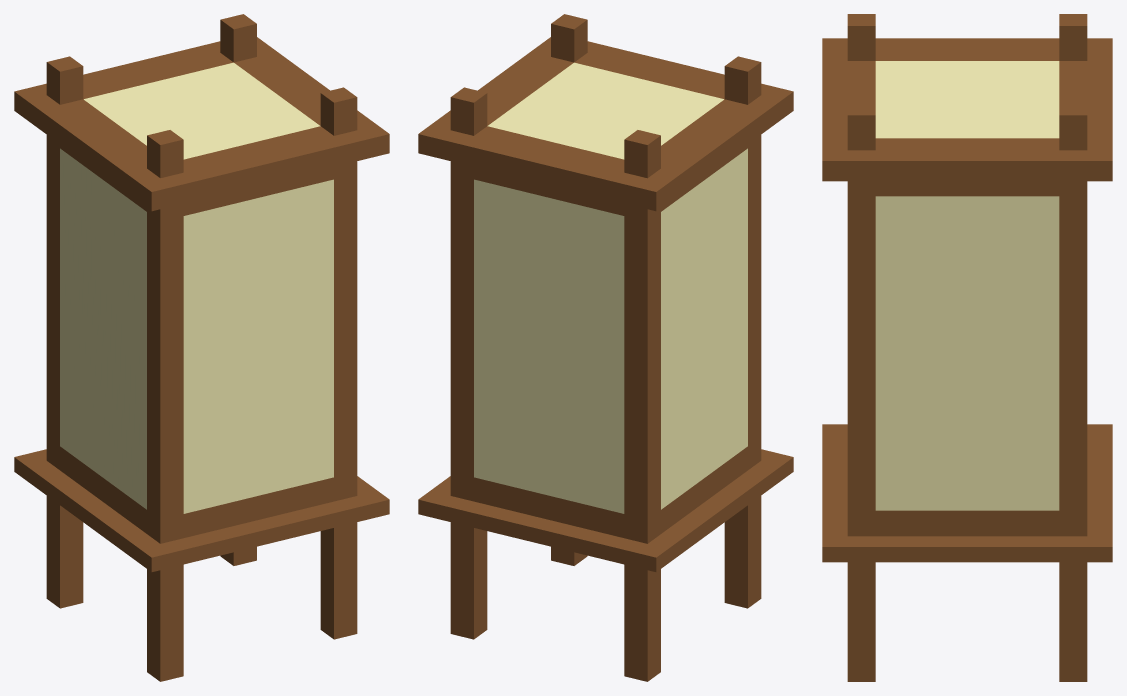
Rendered from Asian_Prop_Bamboo_Paper_Lantern_01.FBX.
3 renders of one model, left to right at view 1: azimuth 30°, elevation 25°; view 2: azimuth 150°, elevation 25°; view 3: azimuth 270°, elevation 25°, orthographic. The views are drawn at different scales.
Visible parts, largest first — view 1: Asian_Prop_Bamboo_Paper_Lantern_01; view 2: Asian_Prop_Bamboo_Paper_Lantern_01; view 3: Asian_Prop_Bamboo_Paper_Lantern_01.
Part boxes in pixels (x1,y1,x2,y2): Asian_Prop_Bamboo_Paper_Lantern_01: (14, 14, 389, 681); Asian_Prop_Bamboo_Paper_Lantern_01: (418, 14, 793, 681); Asian_Prop_Bamboo_Paper_Lantern_01: (822, 14, 1112, 681).
Size of the model in its own units: 474 by 1022 by 474.
